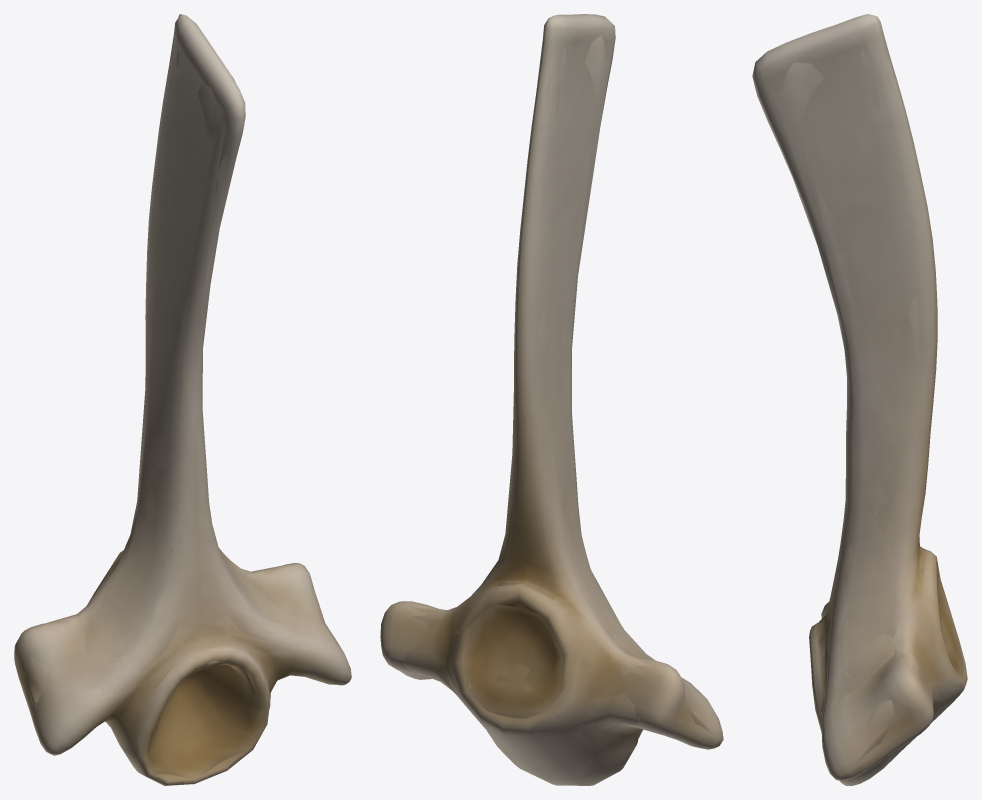
Rendered from vertebrae thoracicae 02.fbx.
The picture shows the model from 3 angles, left to right: view 1: azimuth 30°, elevation 25°; view 2: azimuth 150°, elevation 25°; view 3: azimuth 270°, elevation 25°; orthographic projection.
Visible parts, largest first — view 1: vertebrae thoracicae 02, vertebrae thoracicae 02 low; view 2: vertebrae thoracicae 02, vertebrae thoracicae 02 low; view 3: vertebrae thoracicae 02, vertebrae thoracicae 02 low.
Part boxes in pixels (x1,y1,x2,y2): vertebrae thoracicae 02: (14, 14, 351, 785); vertebrae thoracicae 02 low: (24, 33, 324, 783); vertebrae thoracicae 02: (380, 14, 723, 785); vertebrae thoracicae 02 low: (398, 35, 713, 756); vertebrae thoracicae 02: (752, 14, 967, 785); vertebrae thoracicae 02 low: (769, 36, 963, 764).
Bounding box in the file's own units: 5.04 × 12 × 3.07.
Materials: 1 (1 with a texture image).
